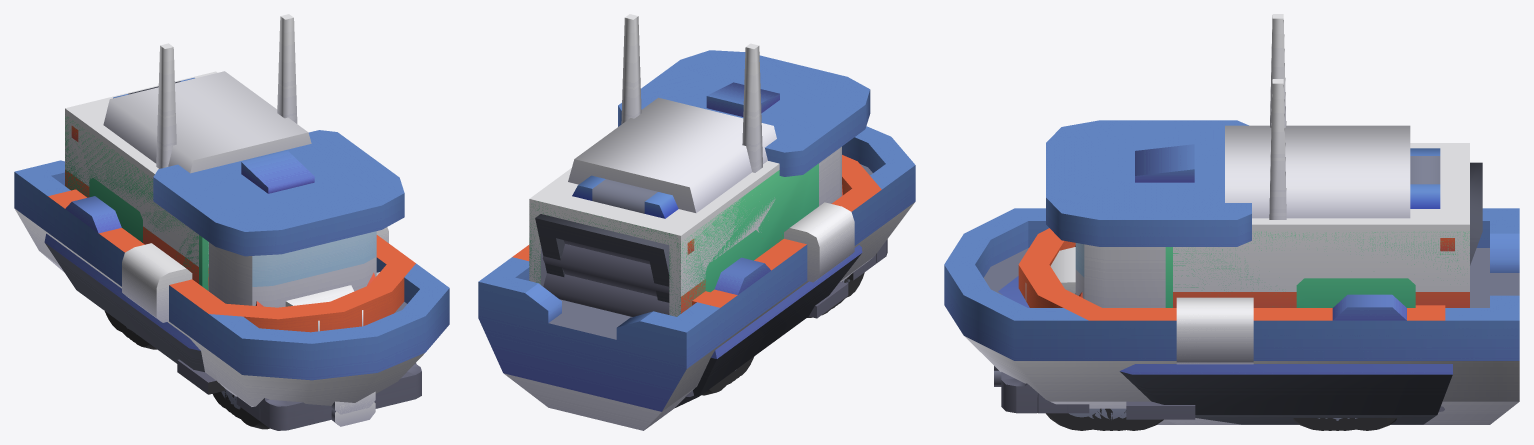
File: kenney_vehicles.glb
3 views of the same model, side by side, from view 1: azimuth 30°, elevation 25°; view 2: azimuth 150°, elevation 25°; view 3: azimuth 270°, elevation 25° (orthographic). The views are drawn at different scales.
Parts seen in each view (by area): view 1: boat-fishing-small, body (×2), boat-speed-e, boat-speed-a; view 2: boat-fishing-small, body (×2), boat-speed-a, boat-speed-e, door; view 3: boat-fishing-small, body (×2), boat-speed-a, boat-speed-e, wheel-front-left.
Part boxes in pixels (x1,y1,x2,y2): boat-fishing-small: [14, 14, 449, 406]; body (×2): [65, 71, 421, 430]; boat-speed-e: [48, 189, 415, 380]; boat-speed-a: [44, 233, 364, 372]; boat-fishing-small: [478, 14, 915, 430]; body (×2): [529, 97, 887, 318]; boat-speed-a: [535, 214, 862, 407]; boat-speed-e: [512, 155, 881, 386]; door: [542, 240, 669, 316]; boat-fishing-small: [944, 14, 1519, 424]; body (×2): [994, 125, 1469, 419]; boat-speed-a: [998, 162, 1482, 424]; boat-speed-e: [1018, 228, 1445, 424]; wheel-front-left: [1046, 408, 1099, 430].
Bounding box in the file's own units: 2 × 2.6 × 3.87.
2 materials, 2 textured.
